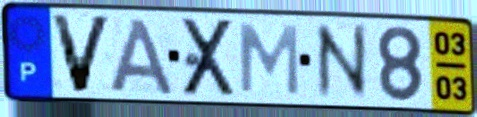8: (375, 23, 426, 104)
A: (107, 16, 178, 97)
M: (237, 21, 302, 99)
N: (311, 21, 373, 103)
V: (47, 11, 116, 96)
X: (179, 16, 239, 99)
